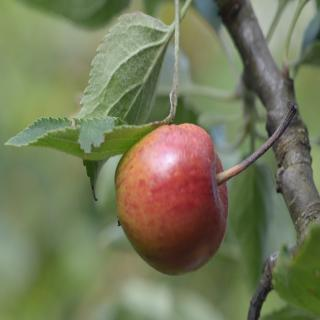Apple: (113, 101, 297, 278)
